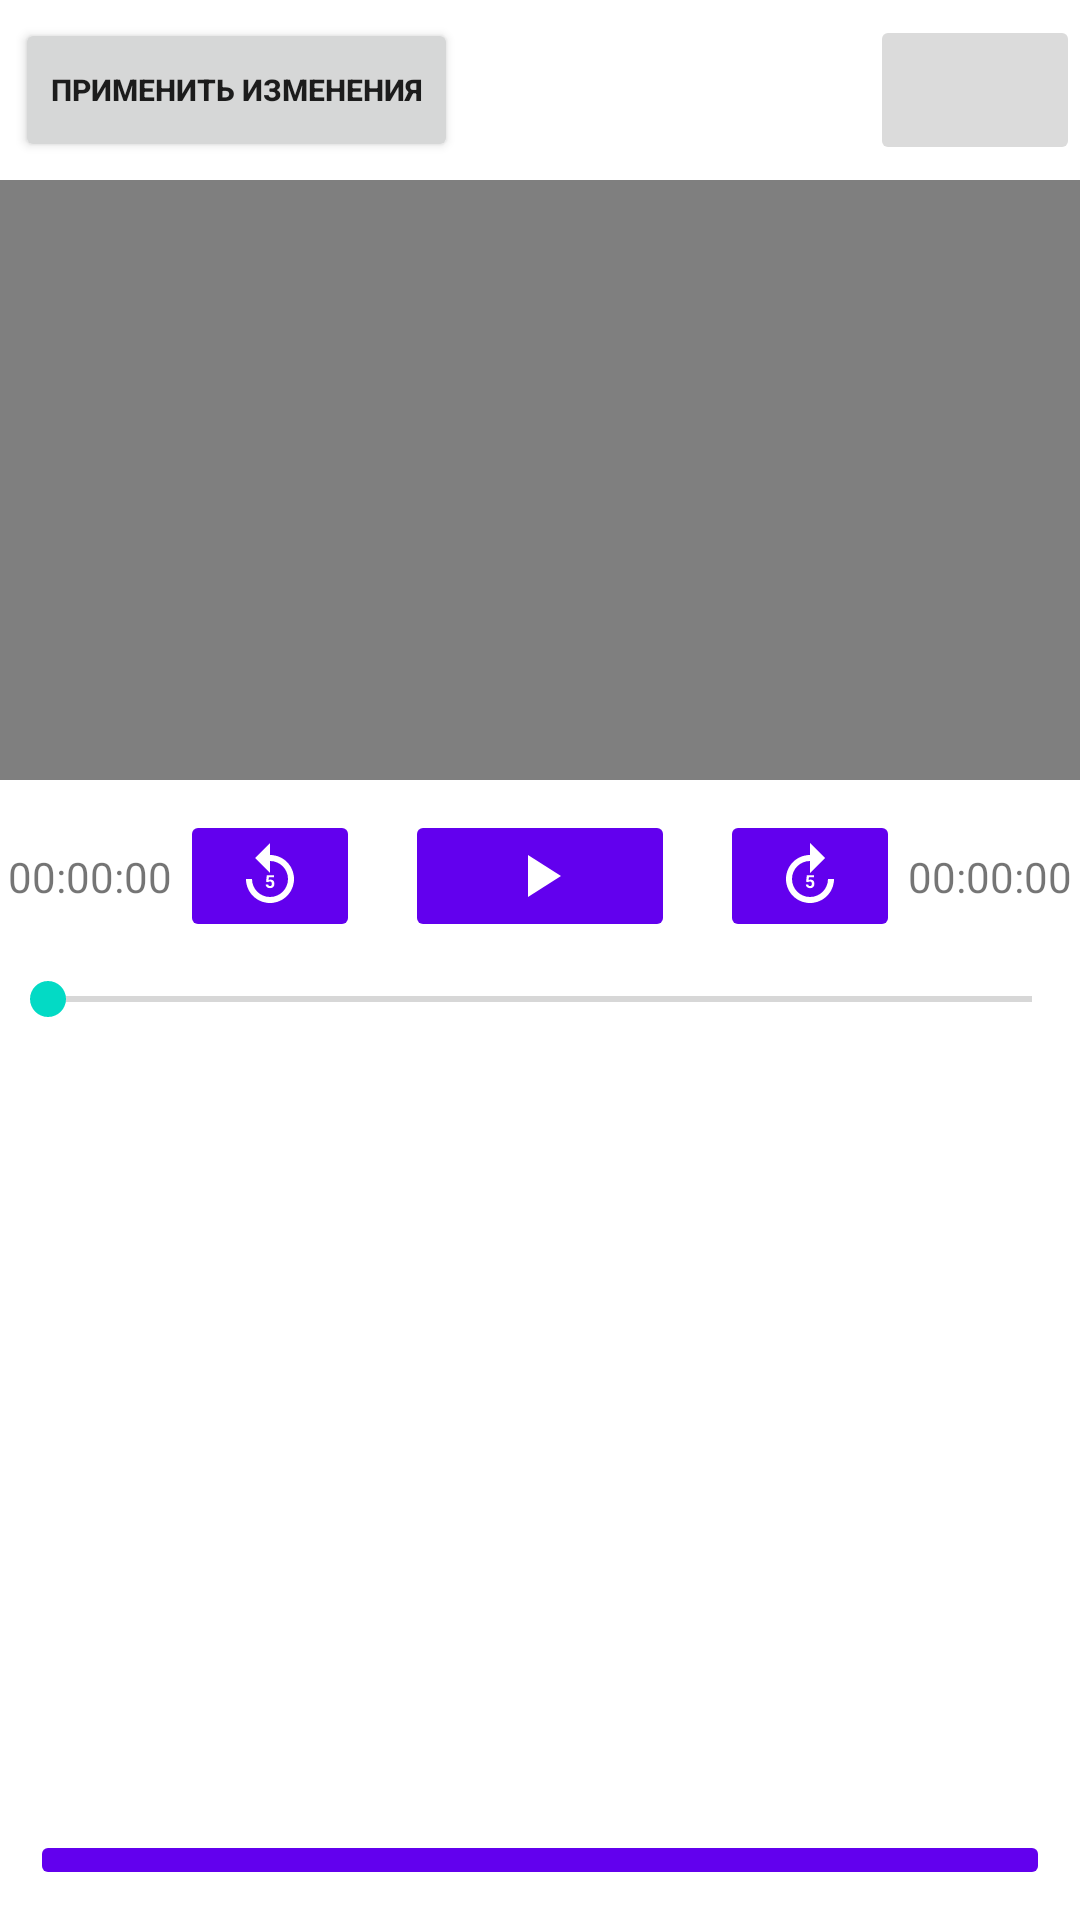

Icon click points for this 1080 × 1920 phone screenshot, format [x,y]:
forward: [810,876]
play arrow: [540,876]
replay: [270,876]
